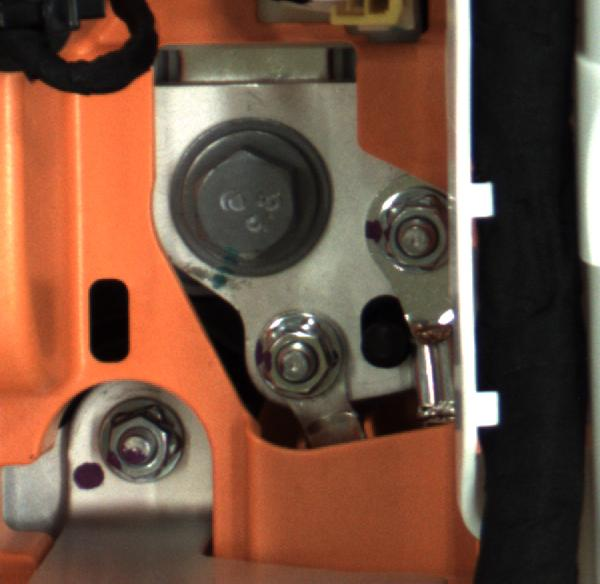screw_s: (96, 396, 201, 500), (255, 308, 363, 406), (371, 197, 475, 285)
